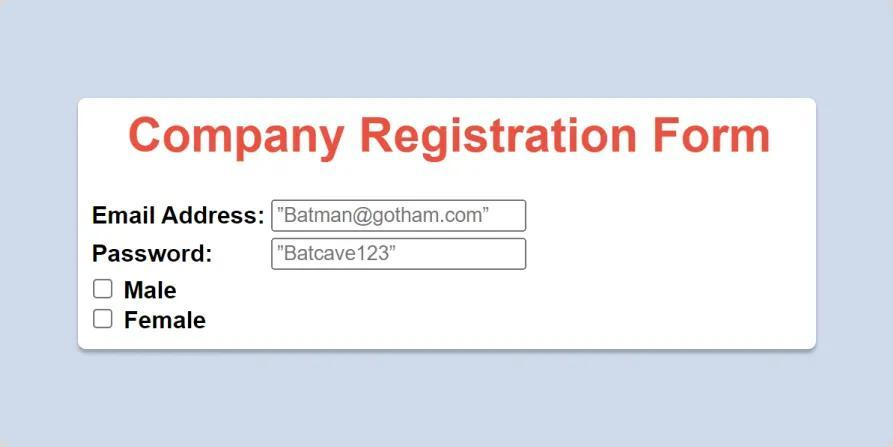input: (271, 238, 528, 271), (272, 201, 527, 234)
label: (128, 115, 772, 166), (90, 200, 268, 233), (91, 239, 216, 269), (123, 309, 209, 336), (122, 275, 181, 303)
radio: (93, 309, 114, 330), (94, 279, 114, 300)
